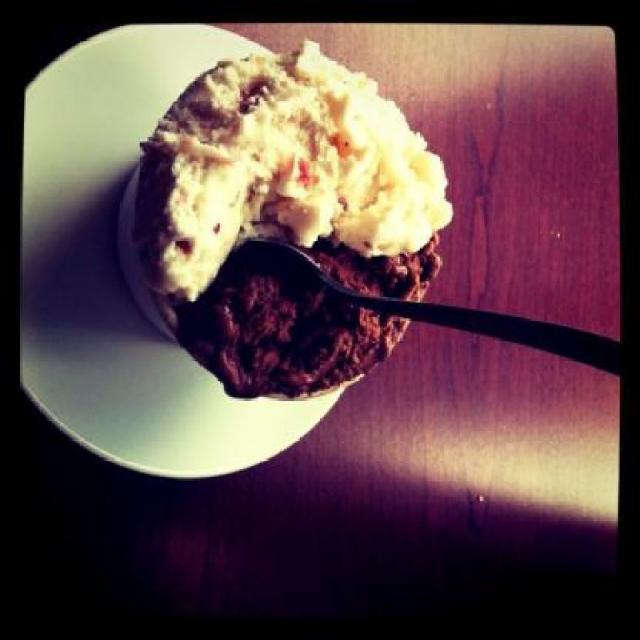Ice cream: (92, 35, 444, 402)
